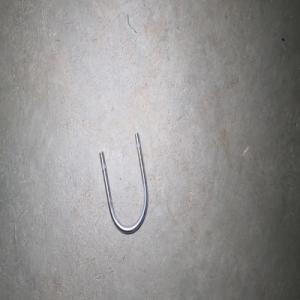ClampPart: (98, 132, 148, 235)
